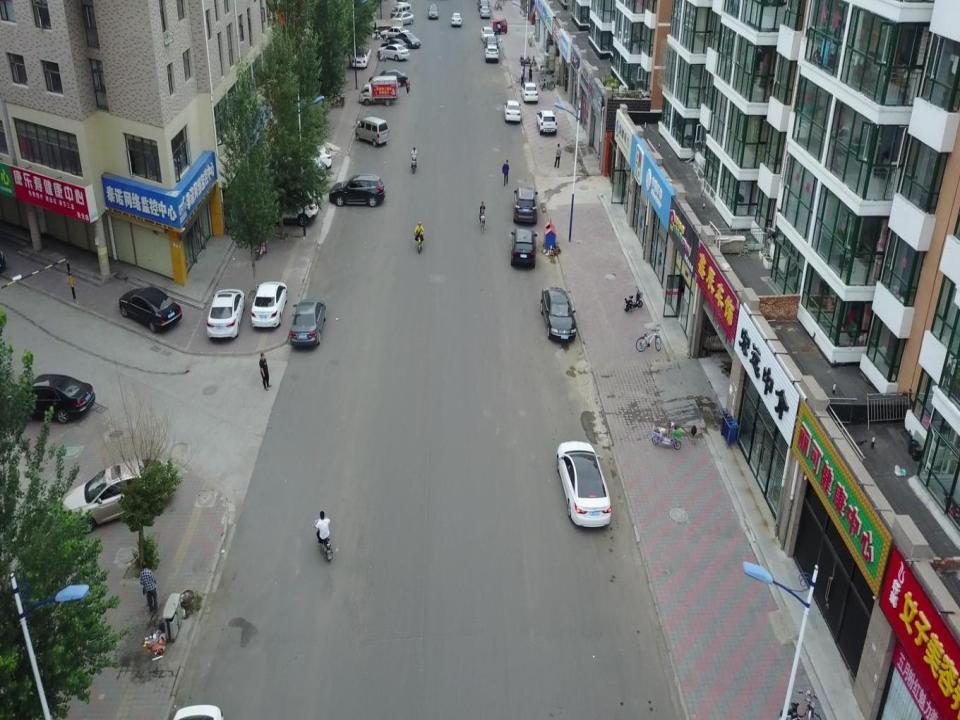car: (53, 460, 166, 532), (557, 441, 611, 530), (7, 373, 94, 426), (119, 286, 182, 334), (206, 289, 246, 339), (541, 286, 576, 342), (263, 189, 318, 224), (329, 173, 385, 207), (290, 300, 326, 348), (250, 282, 287, 328), (282, 142, 331, 171), (272, 159, 324, 185), (512, 186, 538, 225), (510, 229, 537, 265), (368, 68, 406, 88), (535, 108, 558, 135), (376, 43, 410, 61), (352, 42, 372, 69), (395, 31, 421, 49), (381, 38, 407, 55), (381, 26, 410, 40), (503, 100, 521, 122), (521, 81, 539, 103), (391, 12, 414, 28), (485, 43, 498, 63), (481, 26, 495, 44), (485, 35, 498, 51), (427, 3, 438, 19), (451, 12, 462, 26), (480, 6, 490, 18)
truck: (363, 12, 402, 35)
van: (358, 76, 398, 106), (354, 117, 390, 147), (391, 2, 412, 21)
